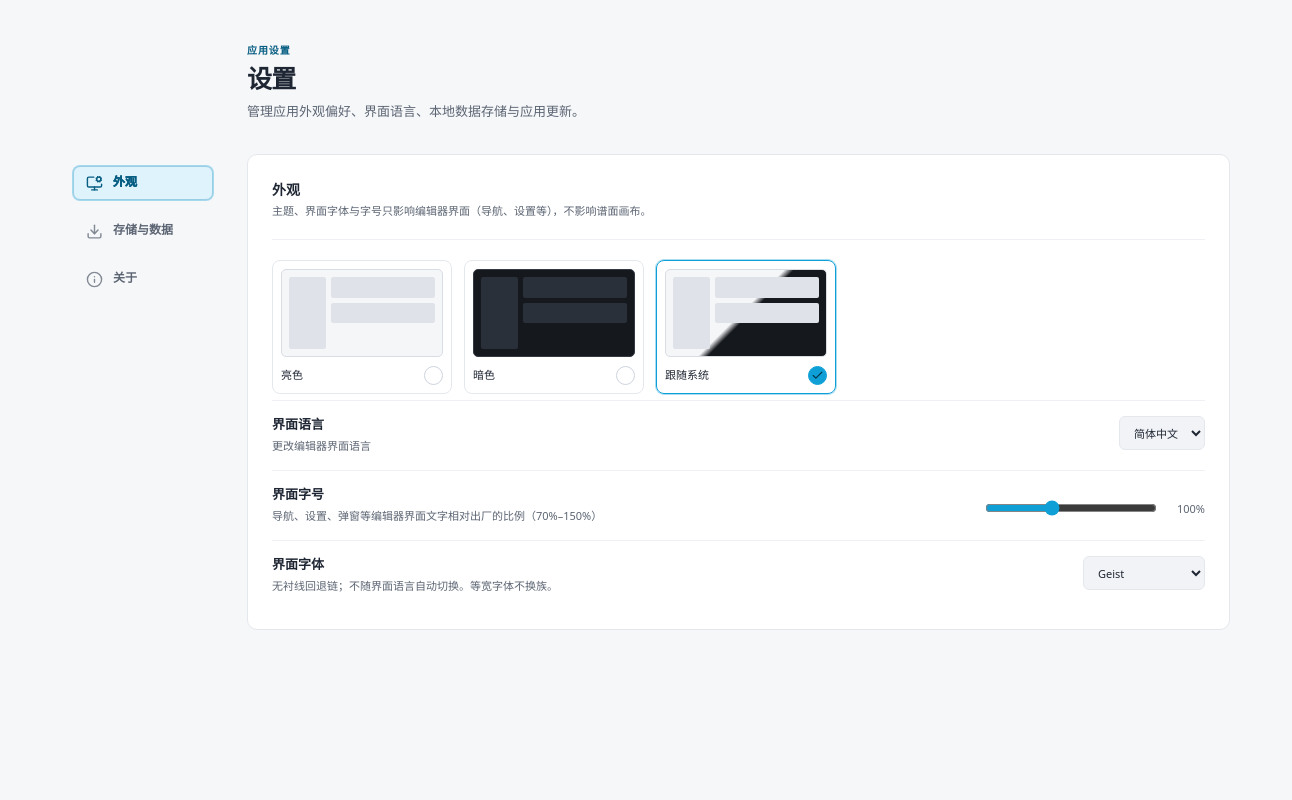
Test: 票 39 · 切换数据目录后的即时联动 › 切根后旧工程在新目录不存在：会话指针安全回落（reset，不抛异常、不白屏）
This screenshot has width=1292, height=800.
Click the button "存储与数据".
click(143, 230)  # box [73,214,213,248]
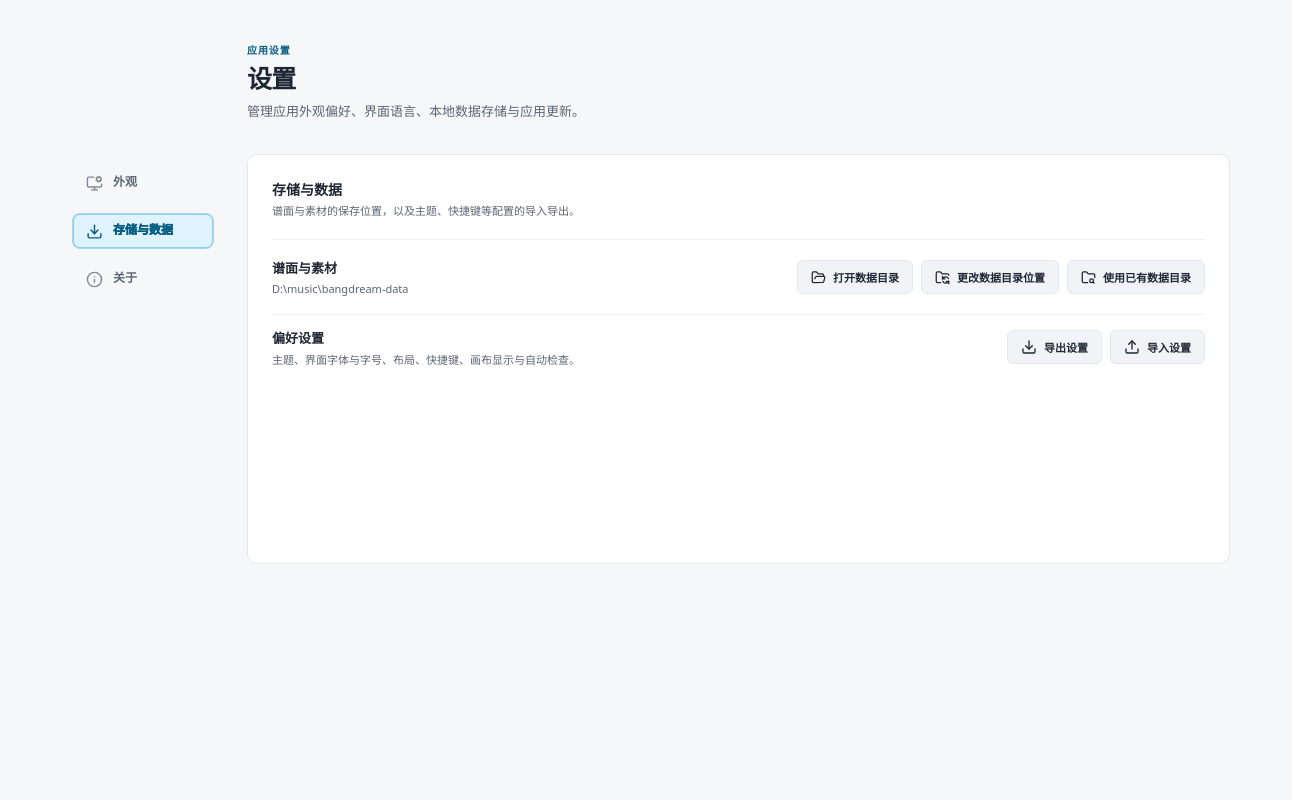
Check: the text "D:\\music\\bangdream-data" is shown, box [272,281,408,296]
Click the button "使用已有数据目录".
click(1136, 277)  # box [1067,260,1205,294]
(page scrolled)
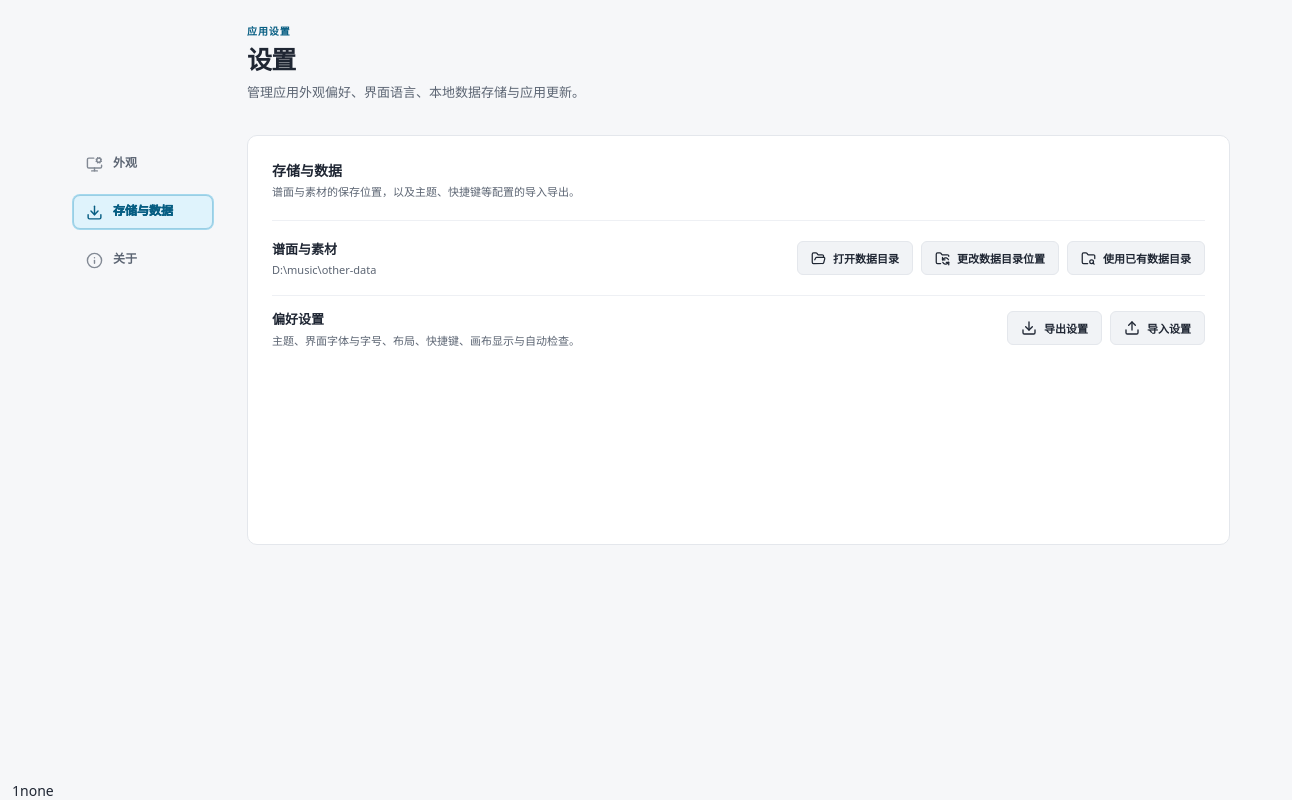
Check: the text with test id "probe-project" reads "none", box [20,781,54,799]
Check: the text "D:\\music\\other-data" is shown, box [272,262,376,277]
Check: the text with test id "probe-epoch" reads "1", box [12,781,20,799]
